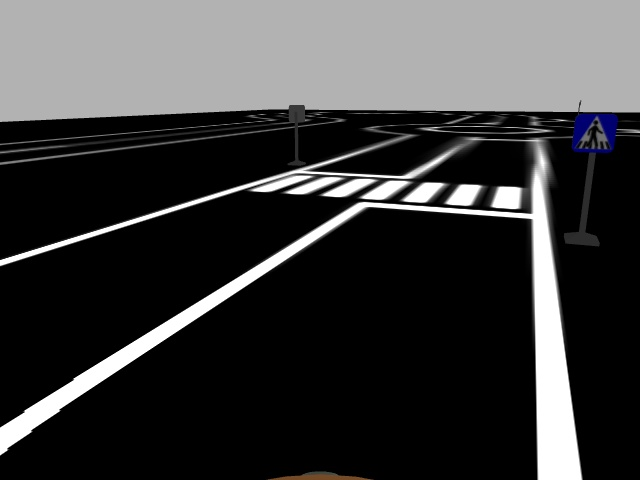crosswalk: (572, 111, 619, 156)
